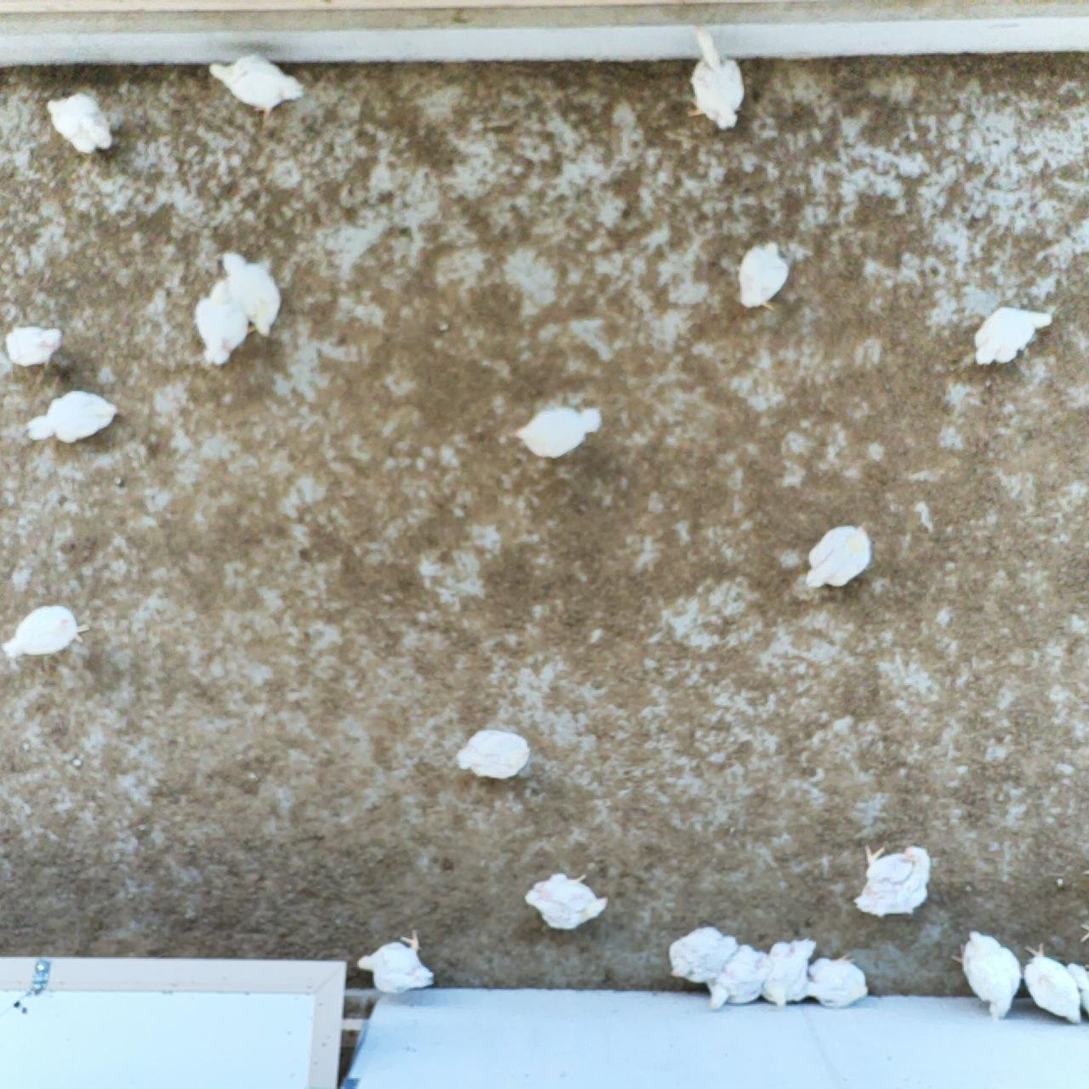chicken: (680, 20, 753, 134), (17, 385, 128, 459), (947, 923, 1026, 1026), (847, 834, 934, 924), (204, 51, 308, 125), (191, 270, 257, 375), (355, 923, 439, 999), (1016, 936, 1085, 1026), (801, 516, 876, 596), (510, 399, 605, 461), (44, 88, 118, 167), (969, 302, 1056, 369), (221, 248, 285, 339), (525, 869, 612, 935), (0, 602, 94, 662), (729, 237, 795, 315), (759, 929, 820, 1012), (704, 941, 774, 1013), (667, 921, 741, 986), (455, 724, 535, 783), (807, 946, 875, 1012), (3, 323, 64, 372), (1069, 955, 1089, 1020)
